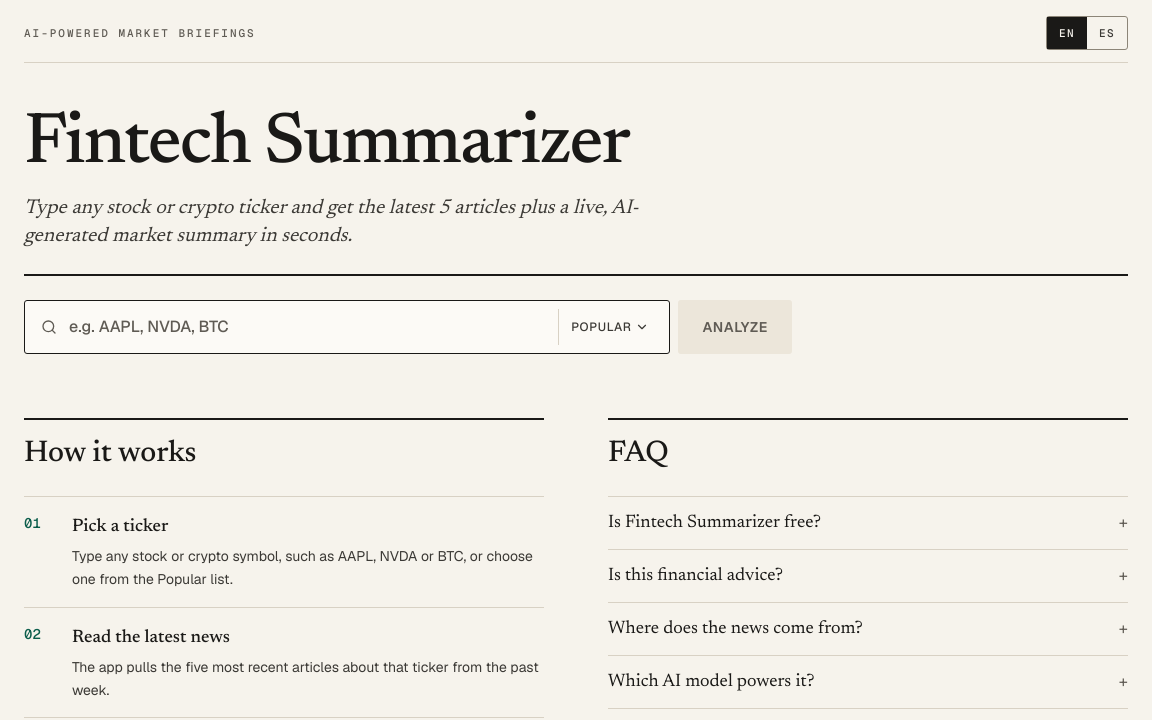
Test case: Home page — full front-end pipeline › switches language, persists it and updates <html lang>
Click the radio button labelled "ES": (1107, 33) [1087,17,1127,49]
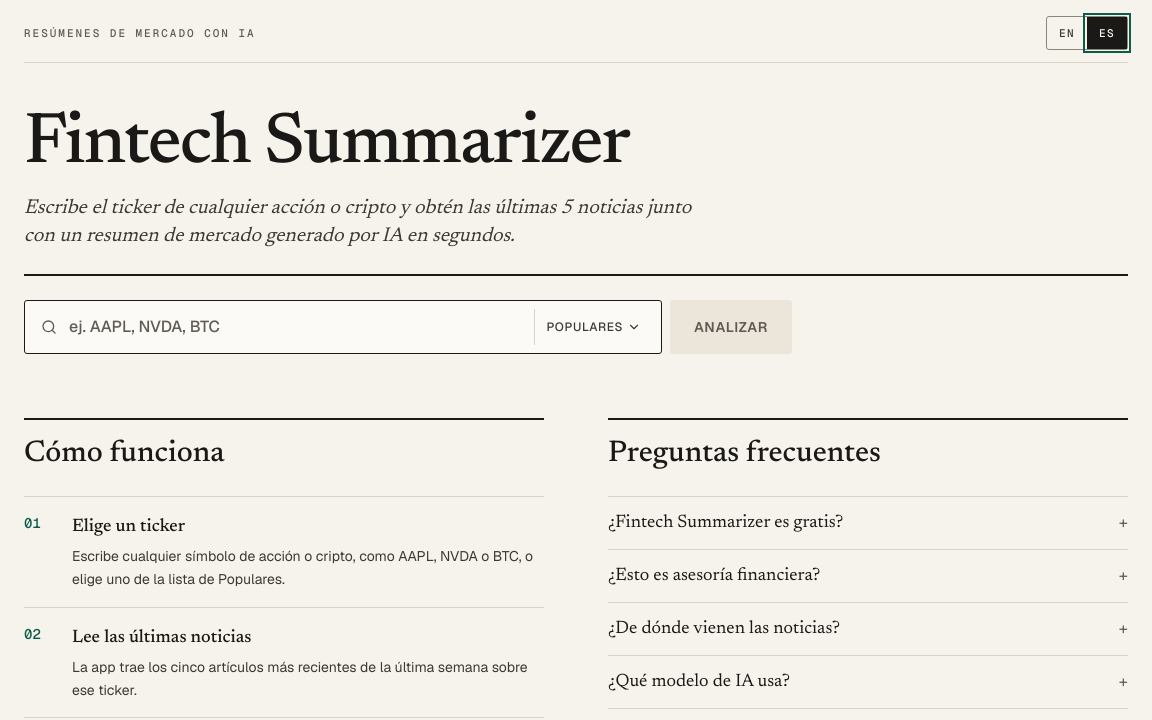
Check: the heading "Cómo funciona" is shown, box [24,439,224,469]
